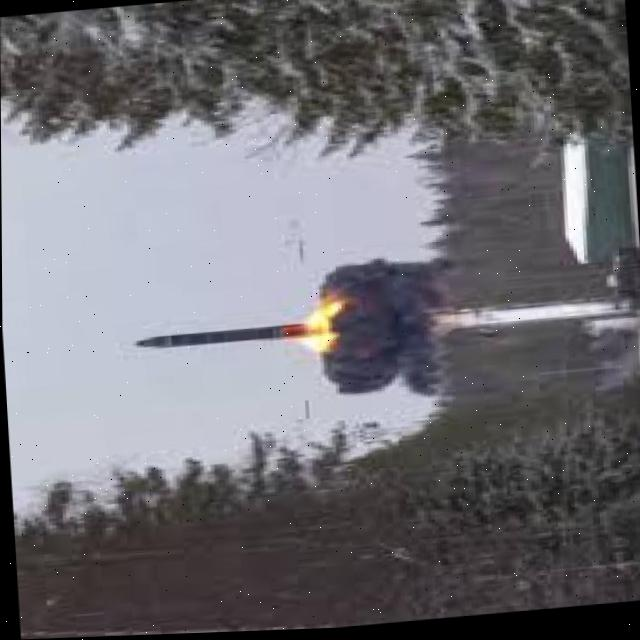missile: (134, 312, 318, 356)
